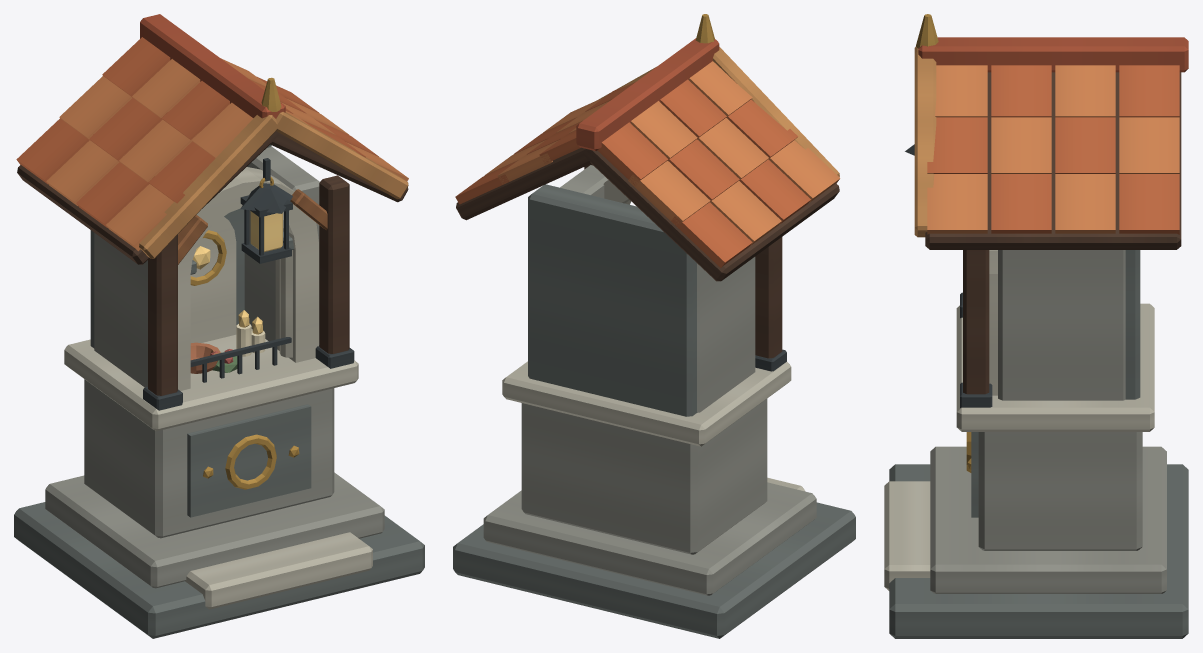
Rendered from wayside_shrine.glb.
3 views of the same model, side by side, from view 1: azimuth 30°, elevation 25°; view 2: azimuth 150°, elevation 25°; view 3: azimuth 270°, elevation 25° (orthographic). The views are drawn at different scales.
Visible parts, largest first — view 1: wayside_shrine; view 2: wayside_shrine; view 3: wayside_shrine.
Boxes of the visible parts, bbox=[...] form: wayside_shrine: bbox=[14, 14, 424, 638]; wayside_shrine: bbox=[453, 14, 855, 638]; wayside_shrine: bbox=[884, 14, 1188, 638].
Bounding box in the file's own units: 1.42 × 2.53 × 1.26.
Materials: 1 (1 with a texture image).
